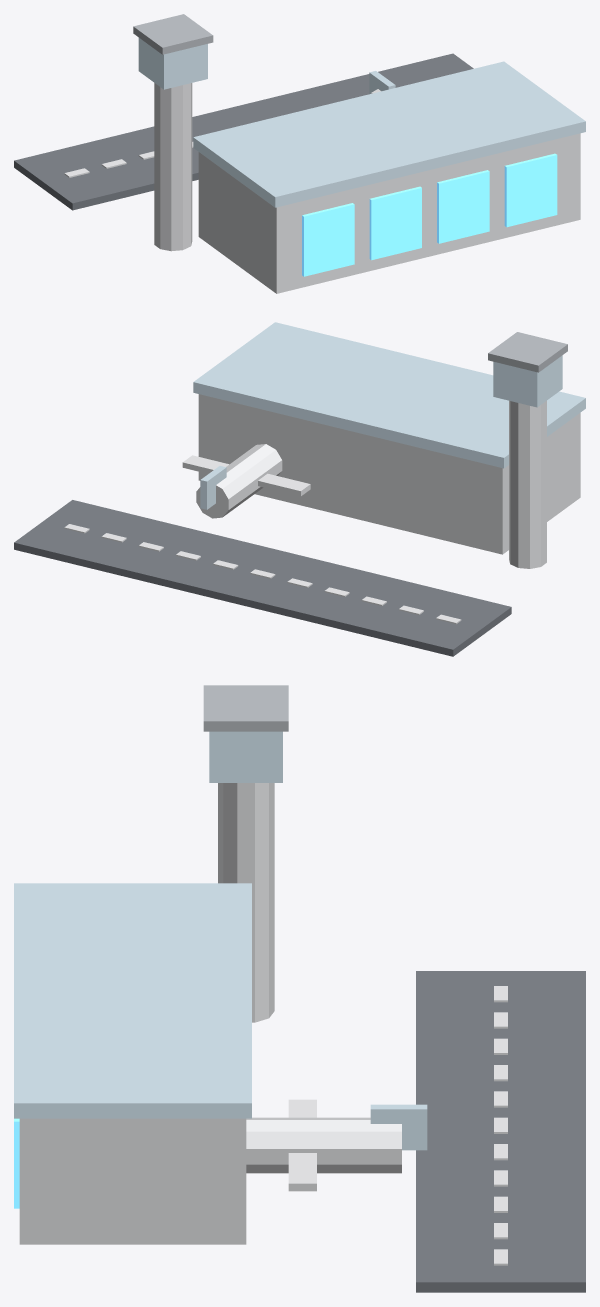
Rendered from airport.glb.
The picture shows the model from 3 angles, top to bottom: view 1: azimuth 30°, elevation 25°; view 2: azimuth 150°, elevation 25°; view 3: azimuth 270°, elevation 25°; orthographic projection. The views are drawn at different scales.
Parts seen in each view (by area): view 1: airport; view 2: airport; view 3: airport.
Part boxes in pixels (x1,y1,x2,y2): airport: (14,14,585,293); airport: (14,322,585,656); airport: (14,685,585,1292).
Bounding box in the file's own units: 2.6 × 1.2 × 2.02.
